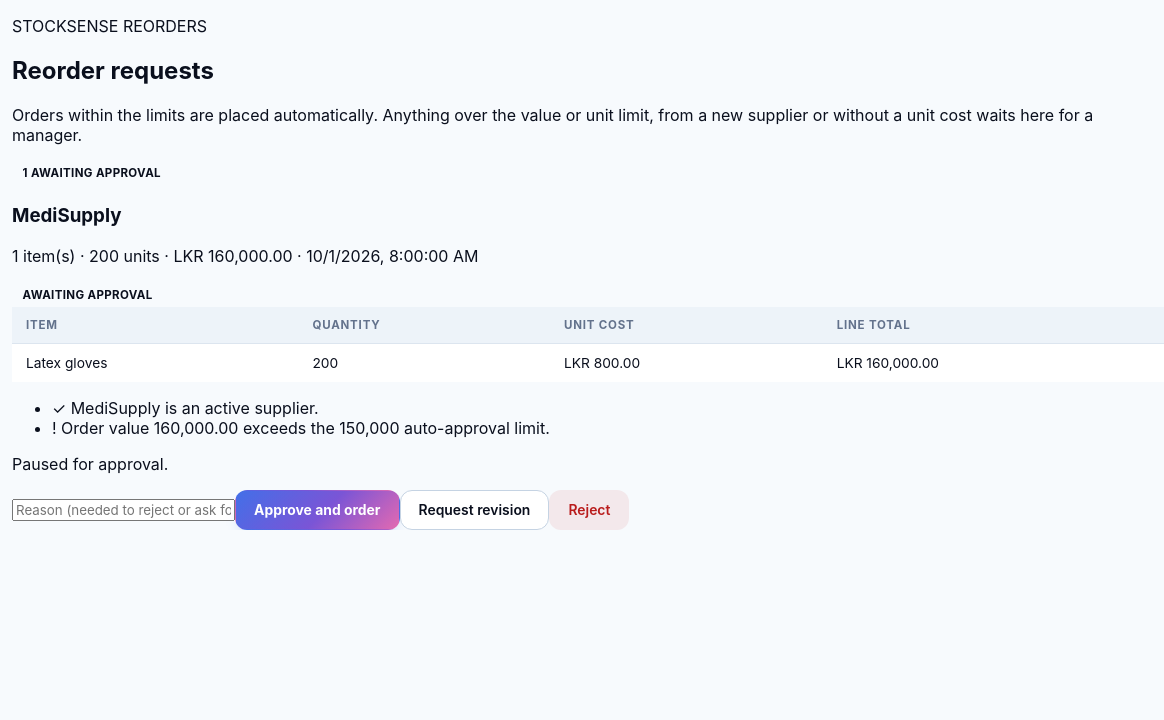
Test: ReorderApprovals › lets a manager approve, and reports the purchase order that was placed
Step 1. Click the button "Approve and order" → coordinates (317, 510), box 235,490 -> 400,530
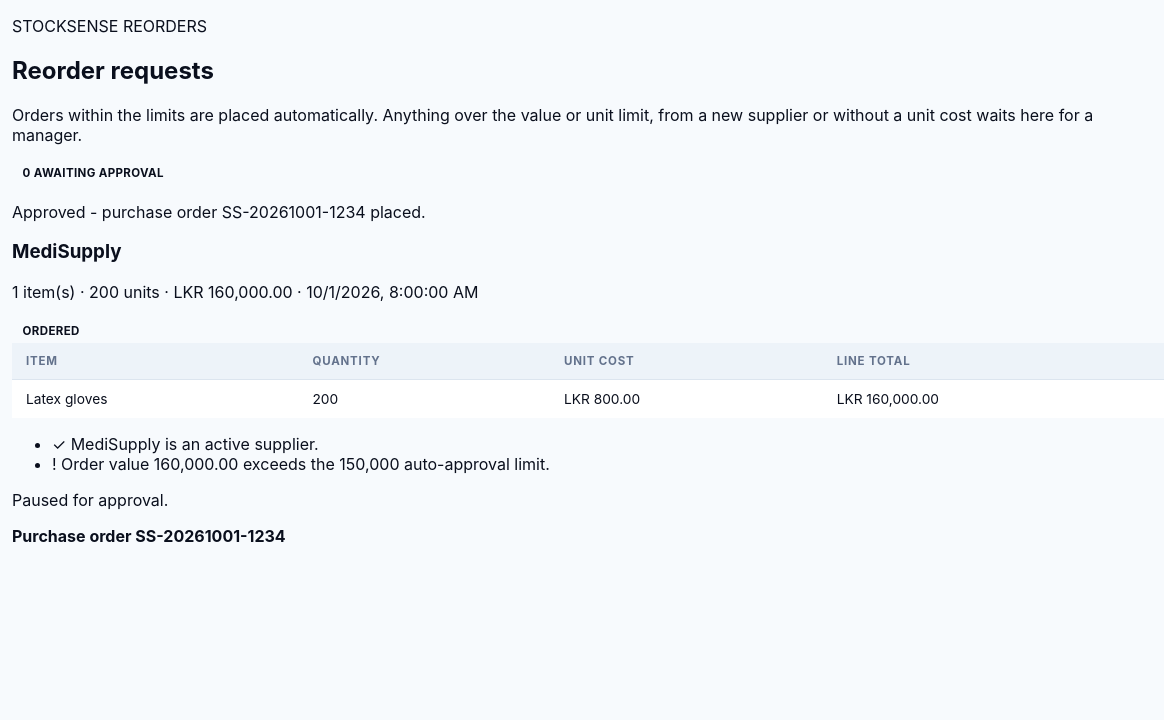
Now the text "Approved - purchase order SS-20261001-1234 placed." is shown, box 12,202 -> 426,222
Now the button "Approve and order" is gone
